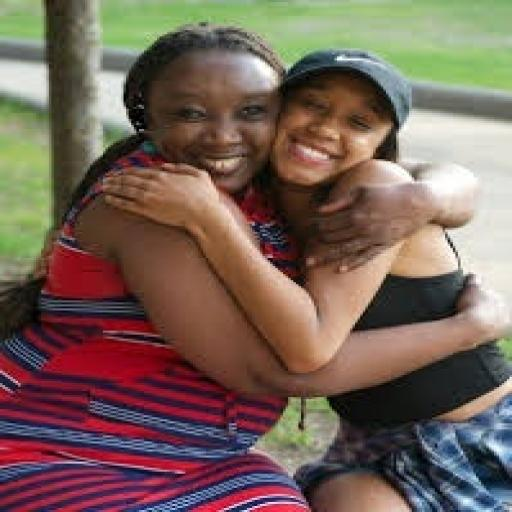hugging: (0, 20, 509, 510), (268, 44, 510, 510)
